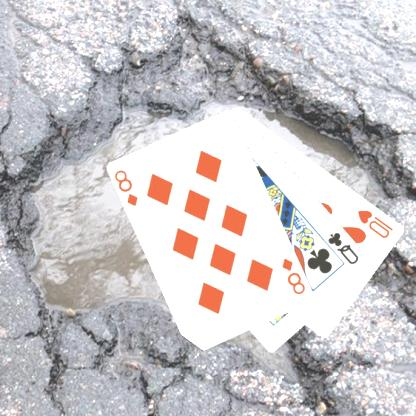10H: (355, 207, 395, 240)
8D: (279, 254, 307, 297), (112, 167, 140, 208)
QC: (325, 229, 361, 266)
